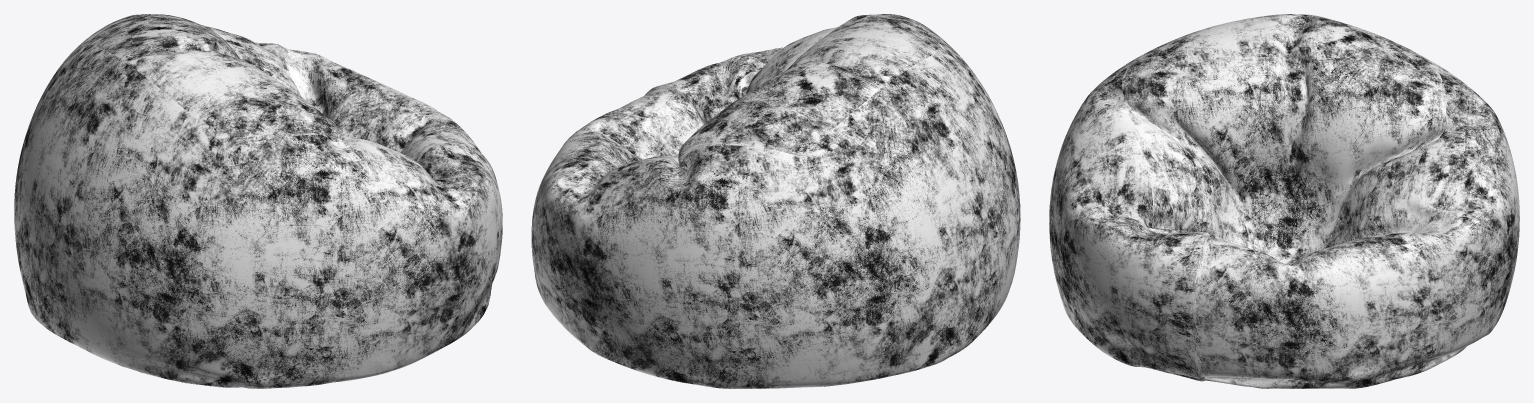
Rendered from item-23.glb.
The picture shows the model from 3 angles, left to right: view 1: azimuth 30°, elevation 25°; view 2: azimuth 150°, elevation 25°; view 3: azimuth 270°, elevation 25°; orthographic projection. The views are drawn at different scales.
Parts seen in each view (by area): view 1: Bean_bag; view 2: Bean_bag; view 3: Bean_bag.
Part boxes in pixels (left/top/right/bottom): Bean_bag: left=14, top=14, right=502, bottom=388; Bean_bag: left=531, top=14, right=1020, bottom=388; Bean_bag: left=1049, top=14, right=1519, bottom=388.
Size of the model in its own units: 1.67 by 1 by 1.75.
Materials: 1 (1 with a texture image).
